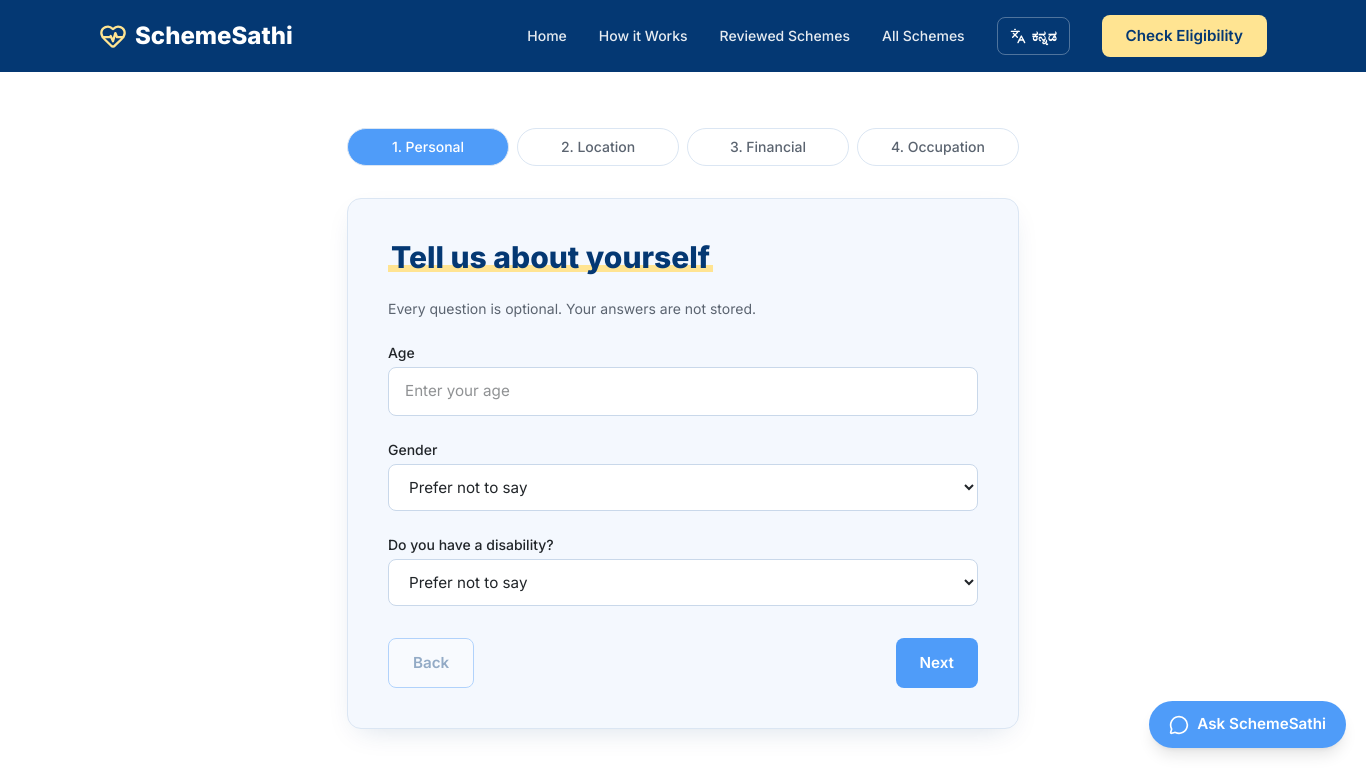
it: questionnaire to results journey › blocks an invalid age
The image size is (1366, 768).
Type "200" into the number field with placeholder "Enter your age" at (683, 391), box [388,367,978,416]
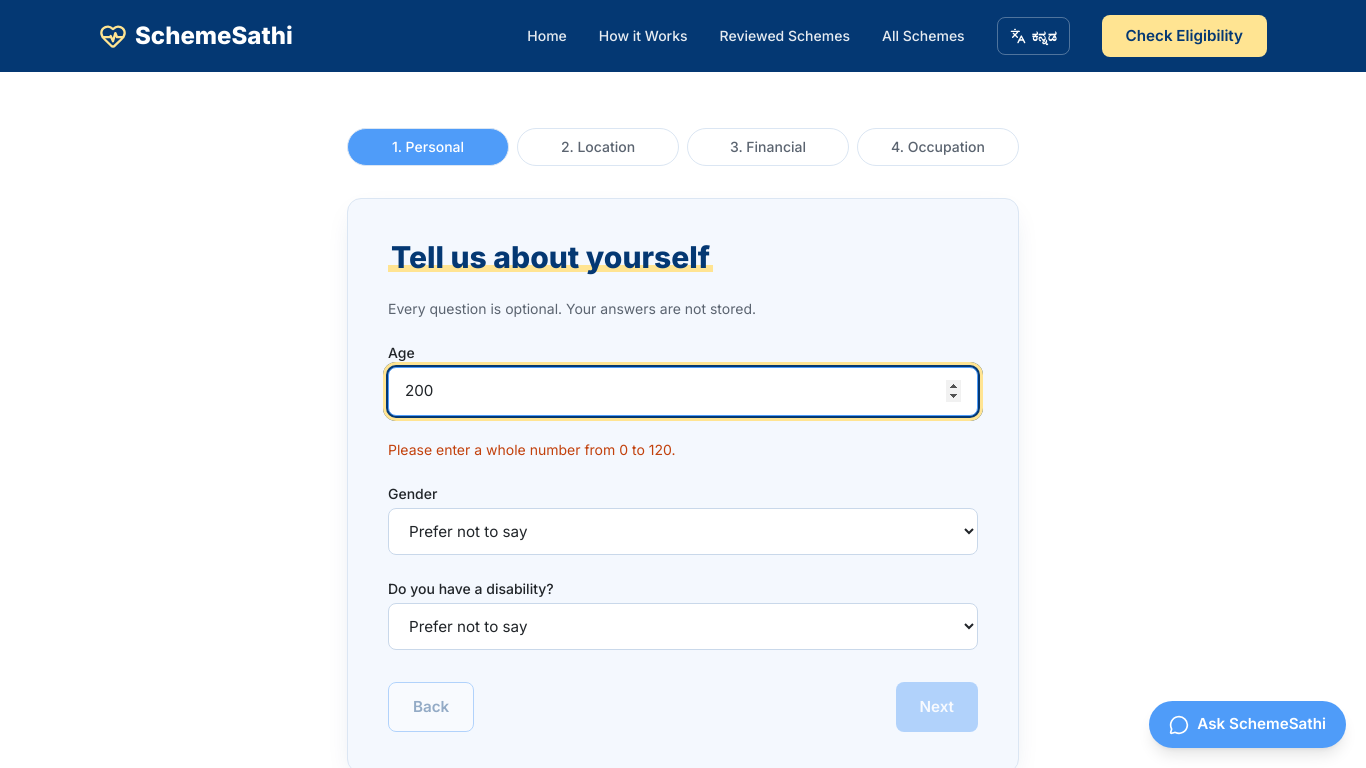
Expected: the message shows "0 to 120", [388,441,676,458]
Expected: the button "Next" is disabled, [896,682,978,732]
